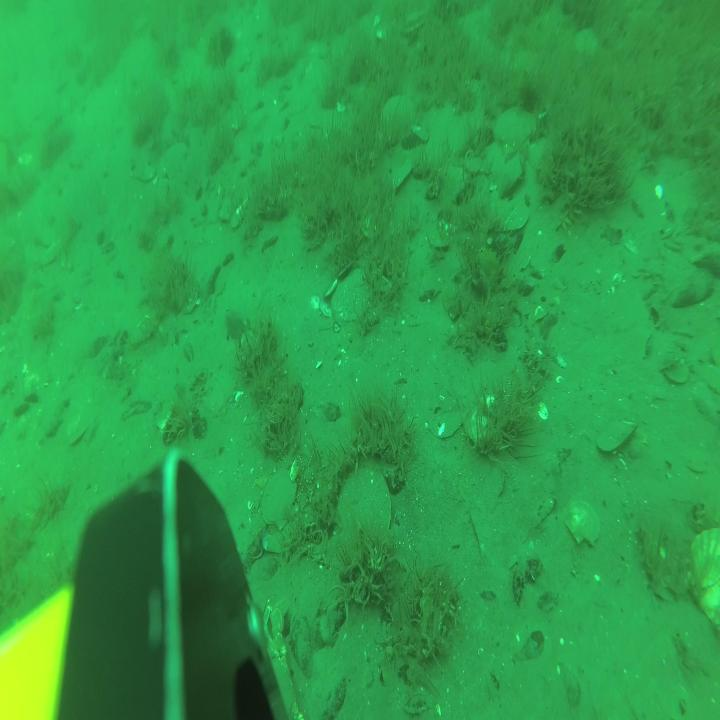scallop: (336, 465, 394, 555), (685, 515, 720, 638), (258, 466, 302, 533), (492, 102, 539, 160), (331, 266, 372, 324), (564, 495, 602, 547), (380, 90, 418, 137), (158, 137, 187, 184), (571, 23, 601, 62), (399, 6, 431, 37)
